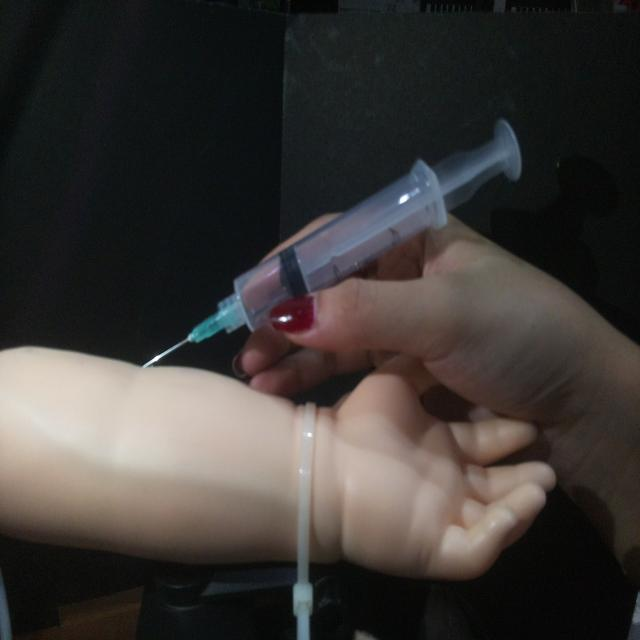27deg: (138, 112, 526, 371)
